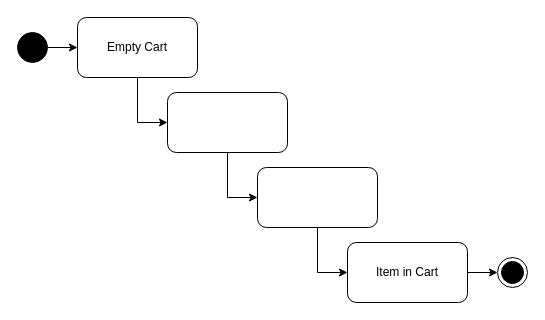
Image size: 545x320. Some labels were removed from this diagram. Each missing label, with the centre of its shape:
Item Request: point 227,122
Stock Check: point 317,197
